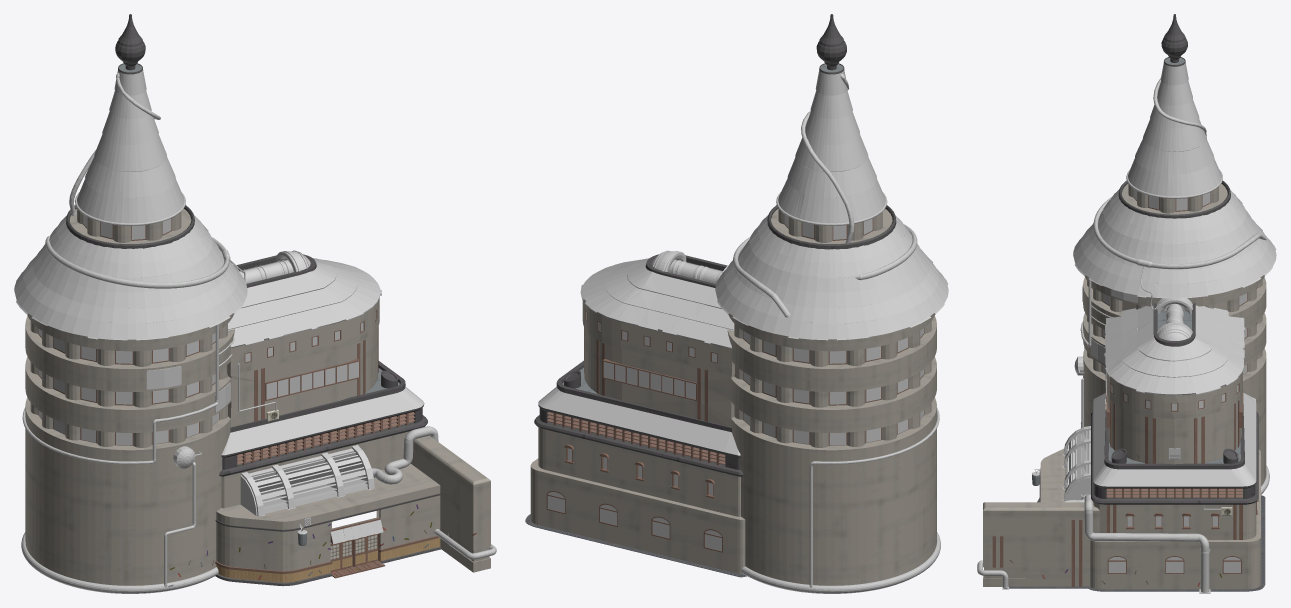
File: SM_ENV_KNVLLG_AreaD_Tower_B.fbx
3 renders of one model, left to right at view 1: azimuth 30°, elevation 25°; view 2: azimuth 150°, elevation 25°; view 3: azimuth 270°, elevation 25°, orthographic. The views are drawn at different scales.
Parts seen in each view (by area): view 1: SM_ENV_KNVLLG_AreaD_Tower_B.mo; view 2: SM_ENV_KNVLLG_AreaD_Tower_B.mo; view 3: SM_ENV_KNVLLG_AreaD_Tower_B.mo.
Part boxes in pixels (x1,y1,x2,y2): SM_ENV_KNVLLG_AreaD_Tower_B.mo: (14, 14, 496, 593); SM_ENV_KNVLLG_AreaD_Tower_B.mo: (525, 14, 948, 593); SM_ENV_KNVLLG_AreaD_Tower_B.mo: (977, 14, 1276, 593).
Bounding box in the file's own units: 7908 × 10963 × 6375.
